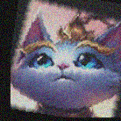Yuumi: (10, 1, 120, 108)
